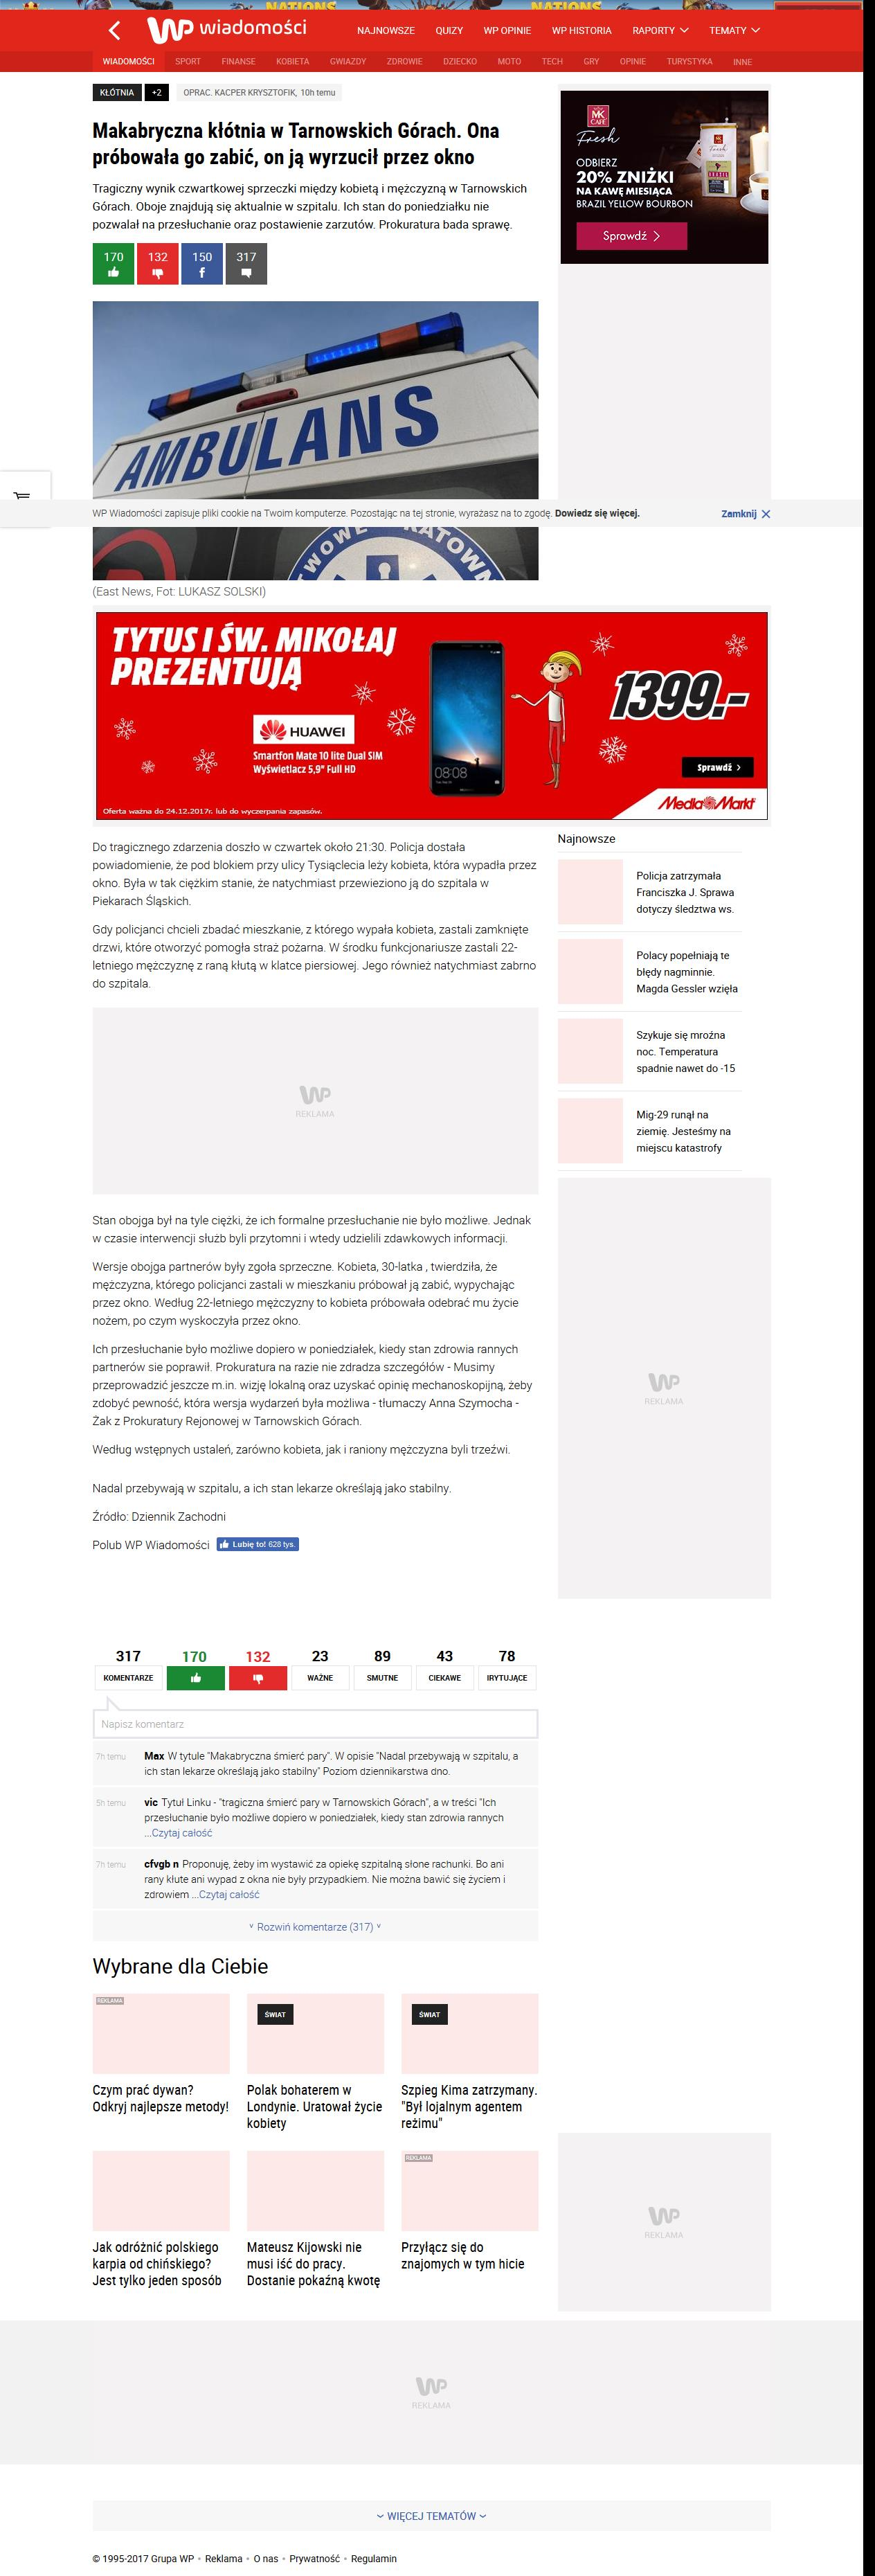title: (92, 120, 501, 168)
